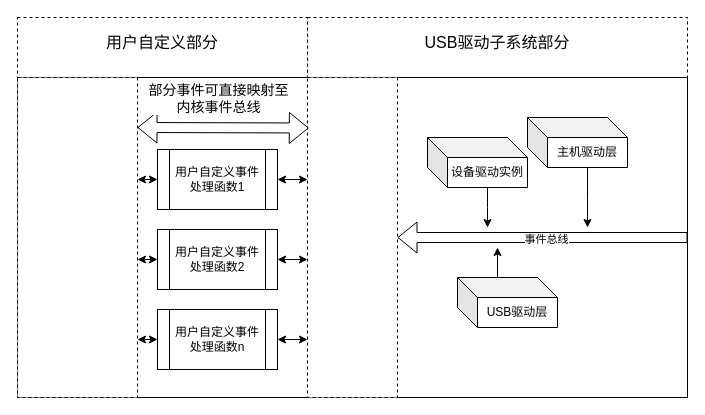
The diagram is 705 pixels wide and 415 high, and some of its shapes have lost their labels. The box of each missing label's shape, as (x1, y1, x2, y2) in pixels:
事件系统/OS抽象层: (306, 76, 398, 398)
系统内核: (16, 76, 138, 398)
